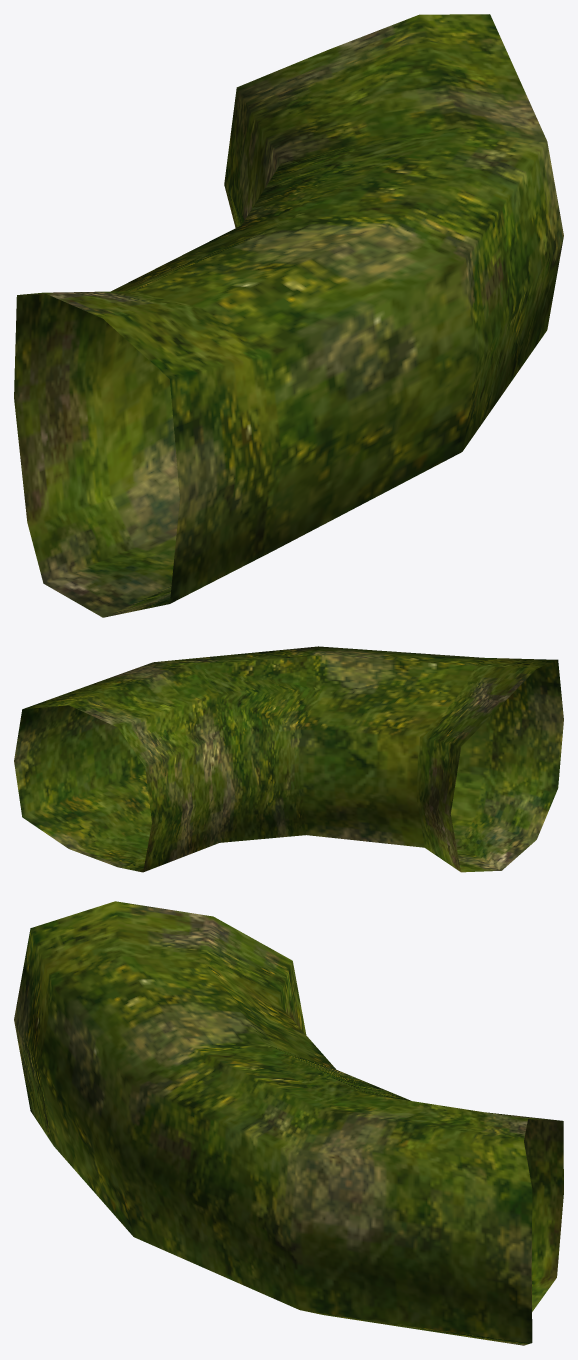
File: OVERHILL_A_01_LINE32.fbx
The picture shows the model from 3 angles, top to bottom: view 1: azimuth 30°, elevation 25°; view 2: azimuth 150°, elevation 25°; view 3: azimuth 270°, elevation 25°; orthographic projection. The views are drawn at different scales.
Parts seen in each view (by area): view 1: OVERHILL_A_01_LINE32; view 2: OVERHILL_A_01_LINE32; view 3: OVERHILL_A_01_LINE32.
Part boxes in pixels (bbox=[...]): OVERHILL_A_01_LINE32: bbox=[14, 14, 563, 617]; OVERHILL_A_01_LINE32: bbox=[14, 646, 563, 872]; OVERHILL_A_01_LINE32: bbox=[14, 901, 563, 1345].
Bounding box in the file's own units: 52279 × 23471 × 46509.
Materials: 1 (1 with a texture image).
